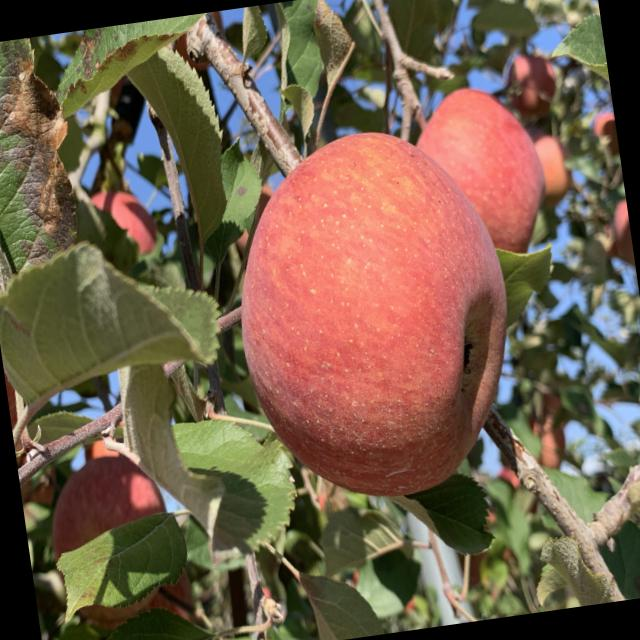fresh: (209, 107, 541, 524)
